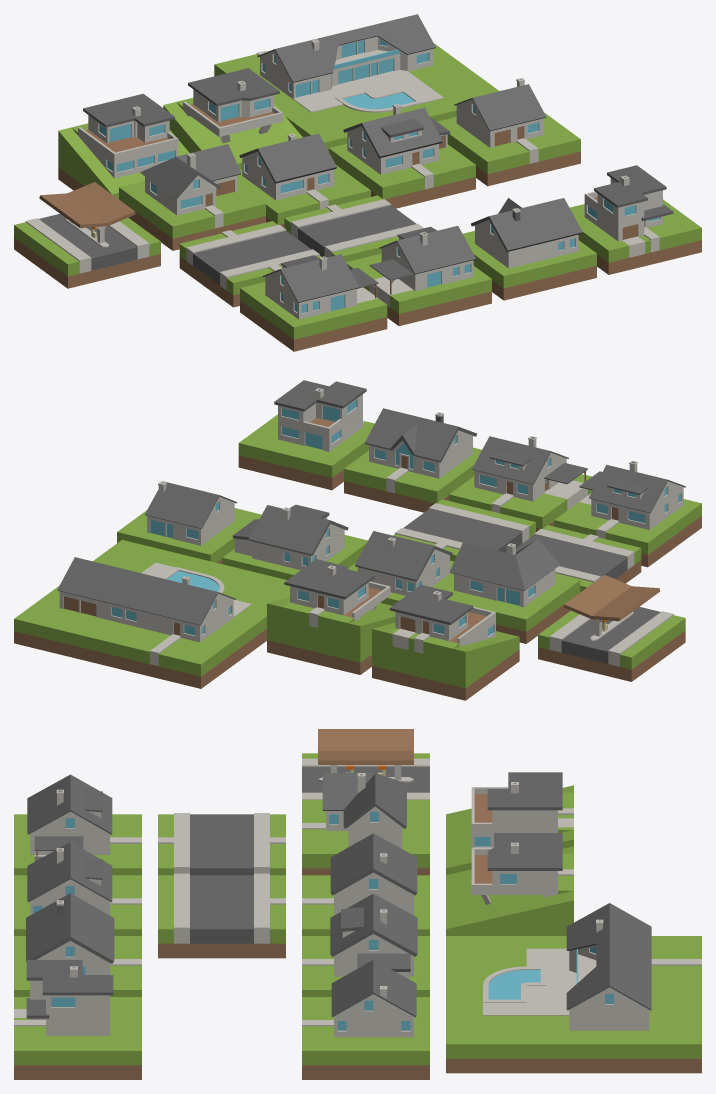
Rendered from man hunt suburb.glb.
3 renders of one model, top to bottom at view 1: azimuth 30°, elevation 25°; view 2: azimuth 150°, elevation 25°; view 3: azimuth 270°, elevation 25°, orthographic. The views are drawn at different scales.
Parts seen in each view (by area): view 1: house-luxurious, gas-station, house-small-carport-right, house-country, house-small-garage, house-mid, house-small.2, house-small-carport-left, house-modern, house-hill-normal, house-hill-small, house-small (+2 smaller); view 2: house-luxurious, house-hill-normal, house-hill-small, gas-station, house-modern, house-mid, house-small-carport-right, house-country, house-small-carport-left, house-small-garage, house-small.2, road-straight-house-1-low (+2 smaller); view 3: house-luxurious, house-modern, house-small.2, house-hill-small, road-straight-house-1-low, house-country, house-small-carport-right, house-small-garage, road-straight-house-2-low, house-mid, house-small, house-hill-normal (+2 smaller).
Part boxes in pixels (left/top/right/bottom): house-luxurious: left=214, top=14, right=499, bottom=150; gas-station: left=14, top=182, right=160, bottom=288; house-small-carport-right: left=240, top=254, right=387, bottom=351; house-country: left=119, top=144, right=265, bottom=250; house-small-garage: left=328, top=103, right=475, bottom=208; house-mid: left=463, top=198, right=596, bottom=300; house-small.2: left=437, top=78, right=580, bottom=186; house-small-carport-left: left=346, top=226, right=491, bottom=325; house-modern: left=570, top=165, right=701, bottom=274; house-hill-normal: left=58, top=93, right=189, bottom=199; house-hill-small: left=163, top=68, right=302, bottom=169; house-small: left=237, top=133, right=370, bottom=227; house-luxurious: left=14, top=540, right=289, bottom=688; house-hill-normal: left=372, top=584, right=519, bottom=700; house-hill-small: left=267, top=559, right=395, bottom=674; gas-station: left=538, top=575, right=685, bottom=681; house-modern: left=238, top=380, right=374, bottom=490; house-mid: left=344, top=408, right=481, bottom=512; house-small-carport-right: left=554, top=460, right=701, bottom=567; house-country: left=443, top=539, right=580, bottom=643; house-small-carport-left: left=449, top=436, right=592, bottom=531; house-small-garage: left=222, top=504, right=367, bottom=579; house-small.2: left=117, top=481, right=261, bottom=563; road-straight-house-1-low: left=393, top=499, right=535, bottom=561; house-luxurious: left=446, top=903, right=701, bottom=1073; house-modern: left=14, top=960, right=141, bottom=1079; house-small.2: left=302, top=960, right=429, bottom=1079; house-hill-small: left=446, top=833, right=573, bottom=935; road-straight-house-1-low: left=158, top=873, right=285, bottom=958; house-country: left=302, top=773, right=429, bottom=875; house-small-carport-right: left=14, top=774, right=141, bottom=875; house-small-garage: left=302, top=893, right=429, bottom=996; road-straight-house-2-low: left=158, top=813, right=285, bottom=875; house-mid: left=14, top=893, right=141, bottom=996; house-small: left=302, top=833, right=429, bottom=935; house-hill-normal: left=446, top=772, right=573, bottom=874.
Bounding box in the file's own units: 29.86 × 4.4 × 29.18.
2 materials, 1 textured.
